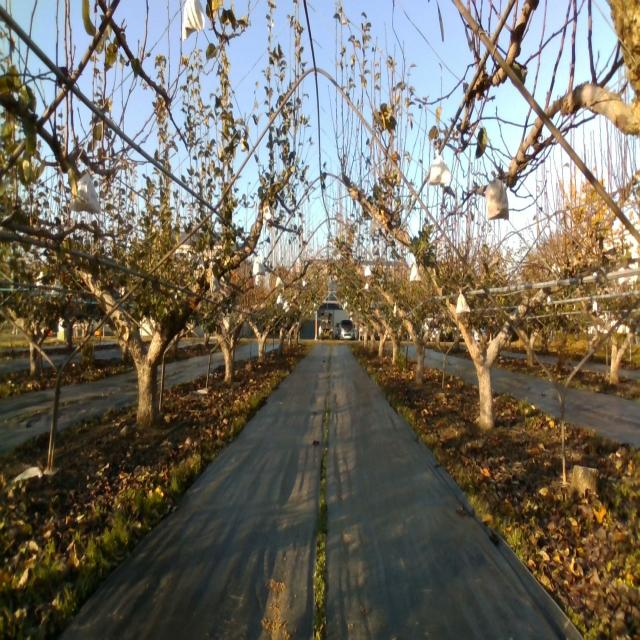pearbags: (69, 165, 103, 214), (177, 0, 208, 43), (486, 170, 510, 220), (428, 151, 452, 186), (456, 288, 472, 314), (252, 249, 266, 278), (263, 201, 275, 225), (369, 217, 382, 235), (209, 274, 219, 296), (410, 263, 421, 283)
